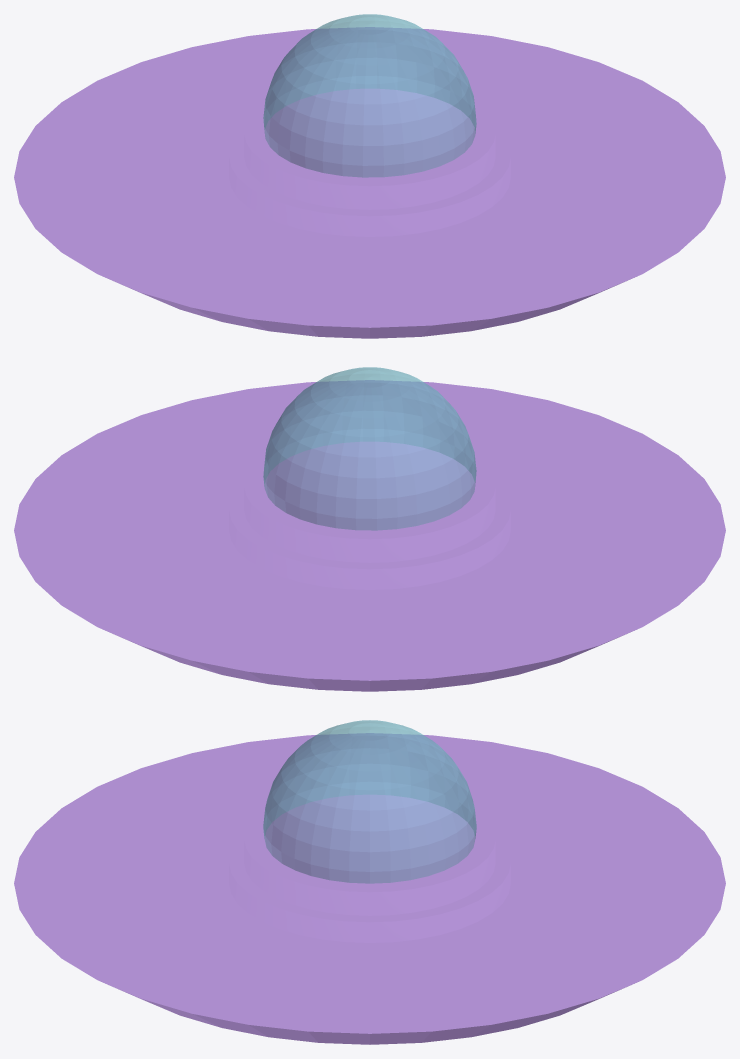
Rendered from ovniFINAL.fbx.
3 renders of one model, top to bottom at view 1: azimuth 30°, elevation 25°; view 2: azimuth 150°, elevation 25°; view 3: azimuth 270°, elevation 25°, orthographic.
Parts seen in each view (by area): view 1: Cylinder; view 2: Cylinder; view 3: Cylinder.
Boxes of the visible parts, x1,y1,x2,y2 form: Cylinder: [14, 14, 725, 338]; Cylinder: [14, 367, 725, 691]; Cylinder: [14, 720, 725, 1044].
Bounding box in the file's own units: 5764 × 1856 × 5764.
